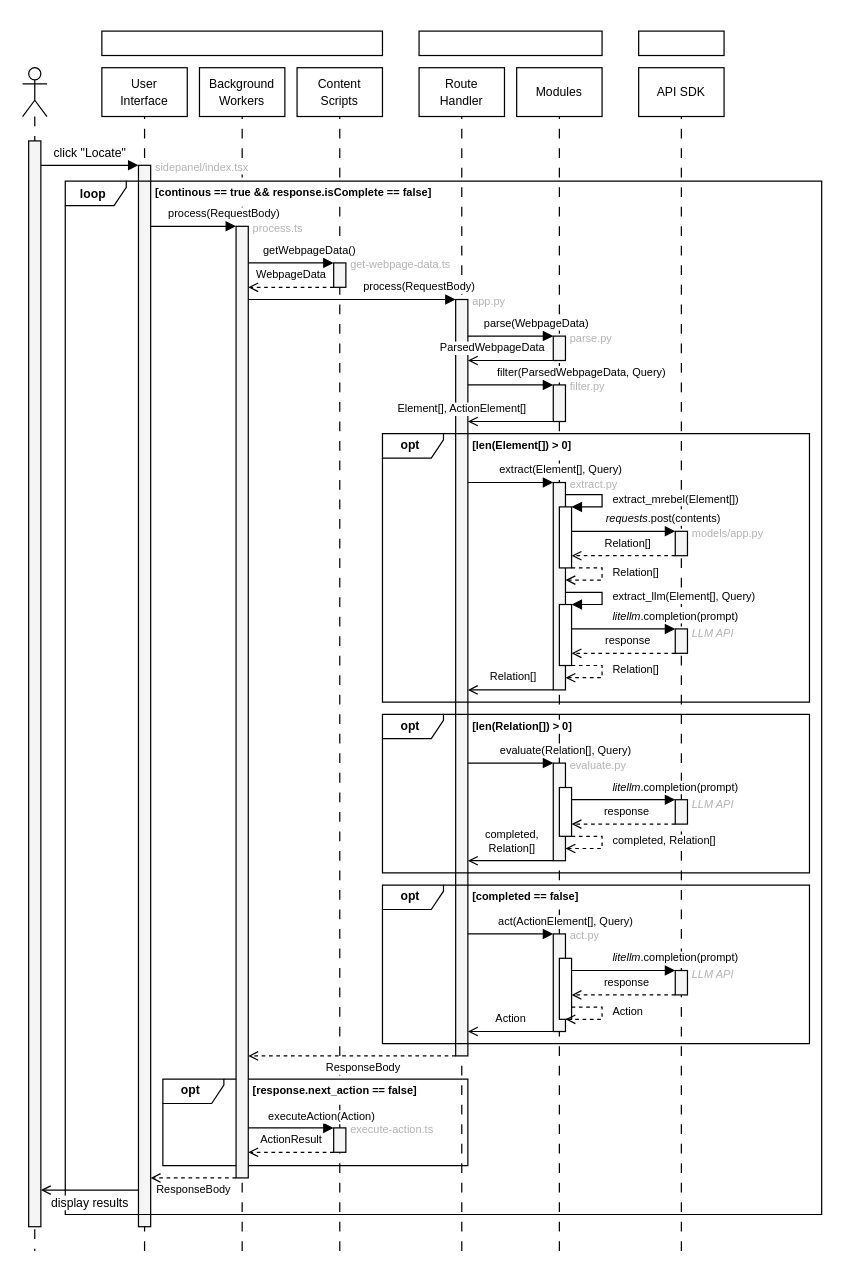
Some shapes in this 843 by 1274 pixel diagram are drawn without their labels. Here are the shapes that lost their labels. From the top down, the centre of each, then its label:
the point at 241,43: Browser Extension
the point at 510,43: API Server
the point at 680,43: External API
the point at 34,91: User
